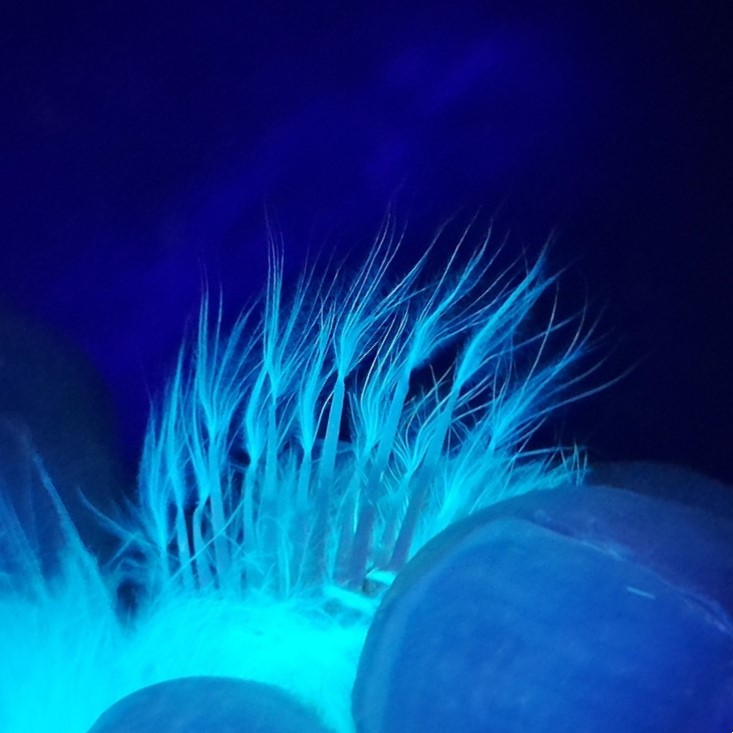male: (141, 362, 550, 624)
